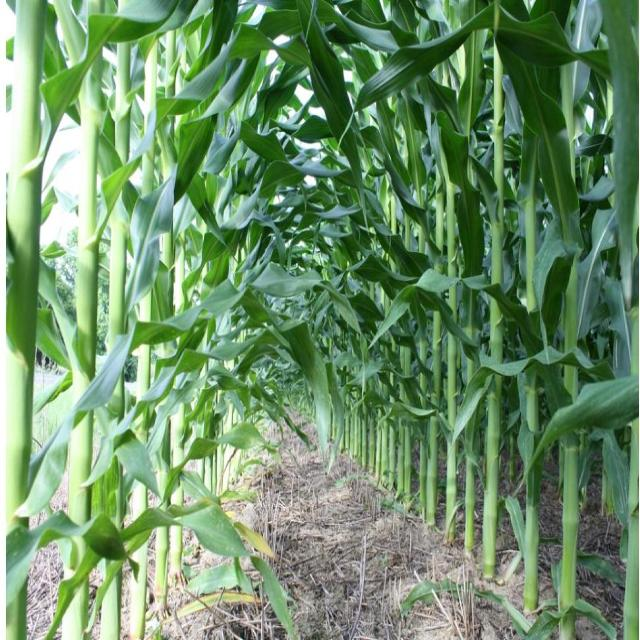row: (151, 410, 543, 640)
